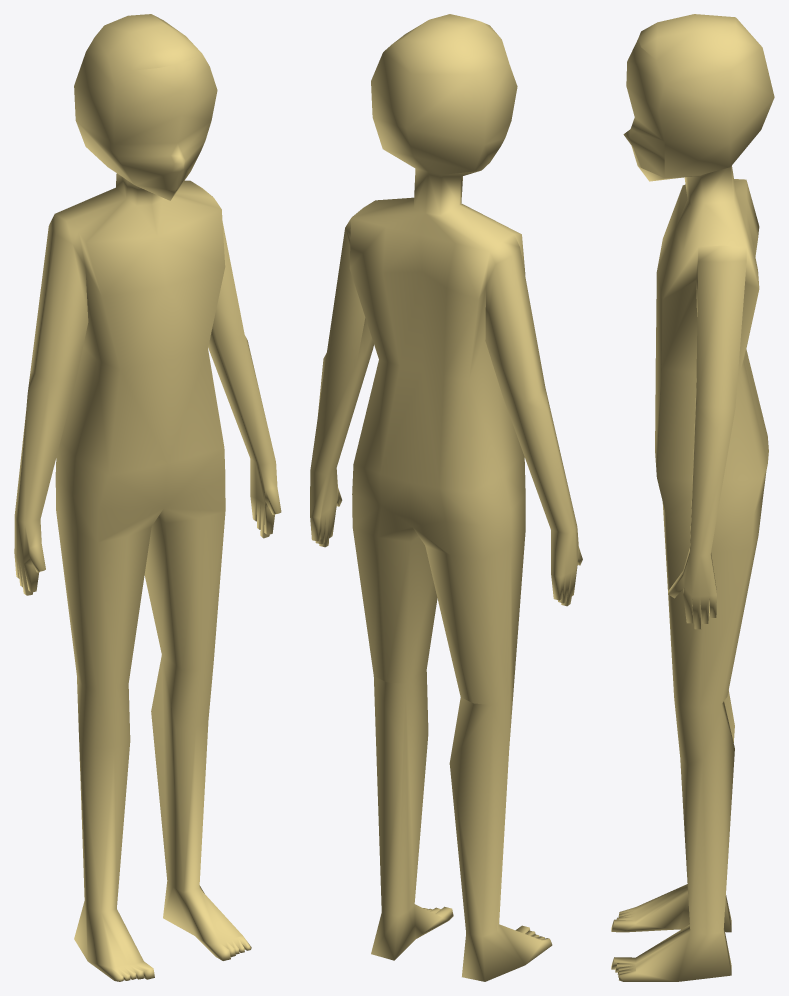
File: Anime_boy_body_low_poly.glb
3 views of the same model, side by side, from view 1: azimuth 30°, elevation 25°; view 2: azimuth 150°, elevation 25°; view 3: azimuth 270°, elevation 25° (orthographic). The views are drawn at different scales.
Visible parts, largest first — view 1: Cube_Material_0; view 2: Cube_Material_0; view 3: Cube_Material_0.
Part boxes in pixels (x1=…): Cube_Material_0: x1=14, y1=14, x2=281, y2=981; Cube_Material_0: x1=310, y1=14, x2=582, y2=981; Cube_Material_0: x1=611, y1=14, x2=774, y2=981.
Bounding box in the file's own units: 0.6849 × 2.33 × 0.3718.
